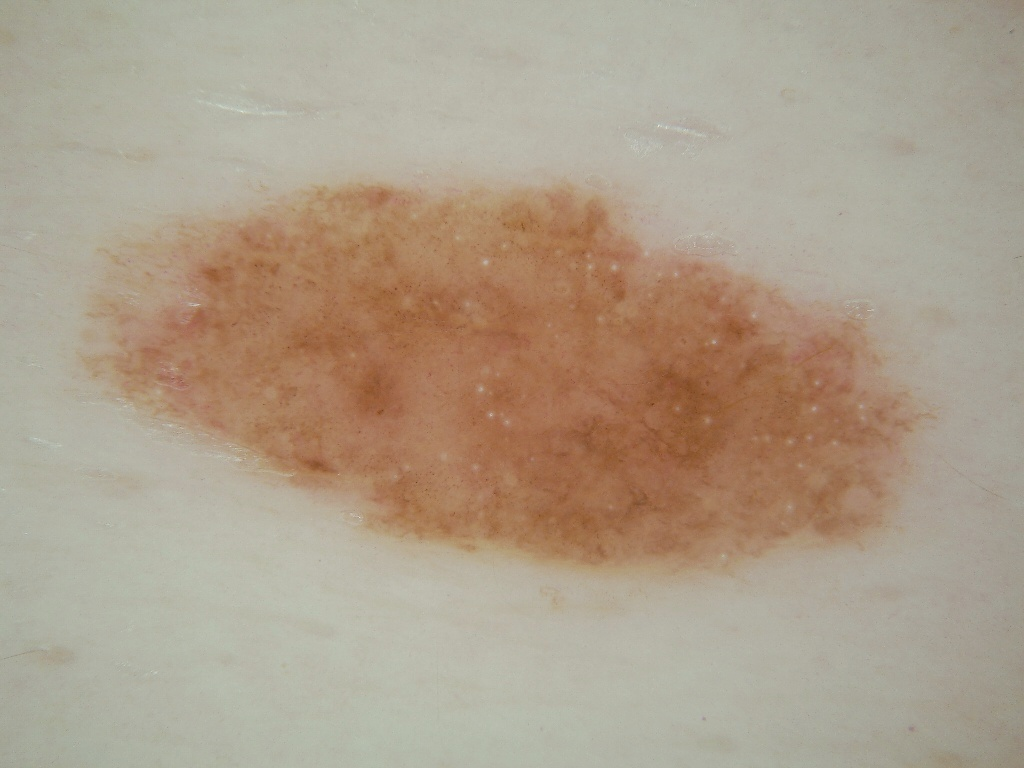Detected Lesion: (74, 172, 935, 584)
